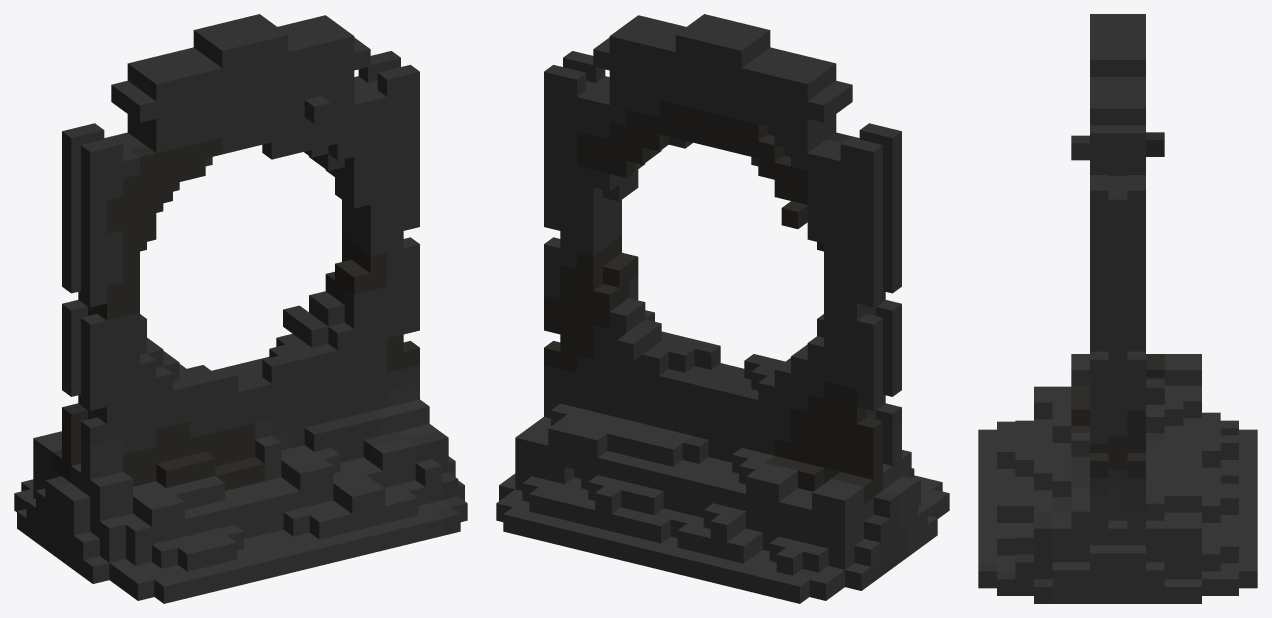
The model's file is DecoratedStone2.obj.
The picture shows the model from 3 angles, left to right: view 1: azimuth 30°, elevation 25°; view 2: azimuth 150°, elevation 25°; view 3: azimuth 270°, elevation 25°; orthographic projection. The views are drawn at different scales.
Size of the model in its own units: 2.2 by 2.8 by 1.5.
Materials: 1 (1 with a texture image).
